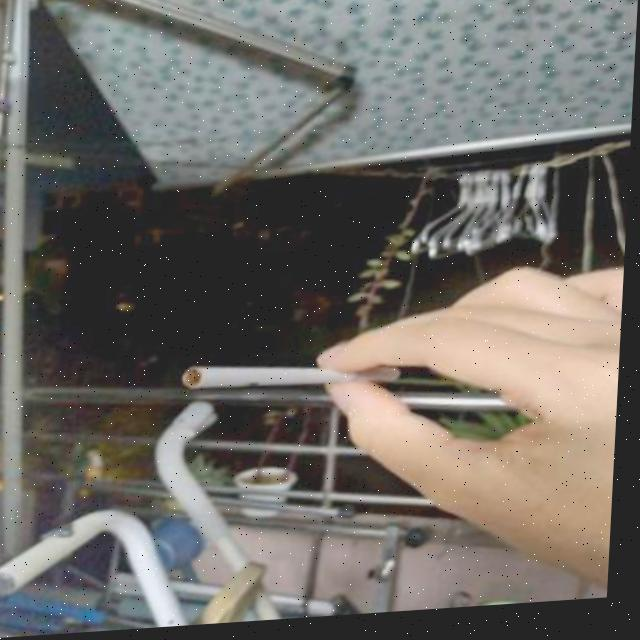cigarette: (186, 358, 406, 399)
